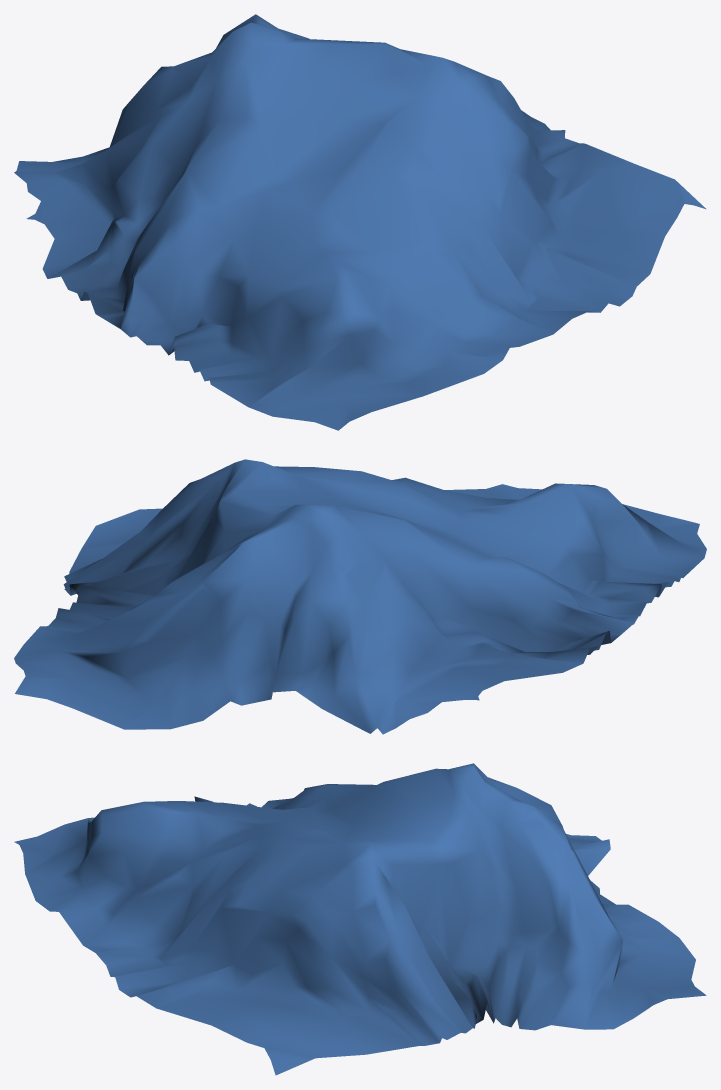
Rendered from Tarp_Pile.fbx.
3 renders of one model, top to bottom at view 1: azimuth 30°, elevation 25°; view 2: azimuth 150°, elevation 25°; view 3: azimuth 270°, elevation 25°, orthographic. The views are drawn at different scales.
Parts seen in each view (by area): view 1: Tarp_Pile; view 2: Tarp_Pile; view 3: Tarp_Pile.
Boxes of the visible parts, x1,y1,x2,y2 form: Tarp_Pile: (14, 14, 706, 430); Tarp_Pile: (14, 459, 706, 734); Tarp_Pile: (14, 763, 706, 1075).
Bounding box in the file's own units: 0.1722 × 0.0514 × 0.1982.
